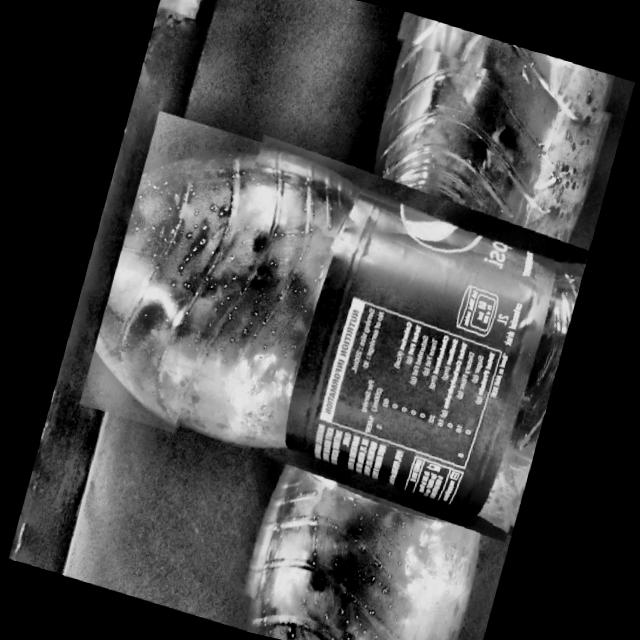Plastic-Bottle: (129, 0, 632, 640)
